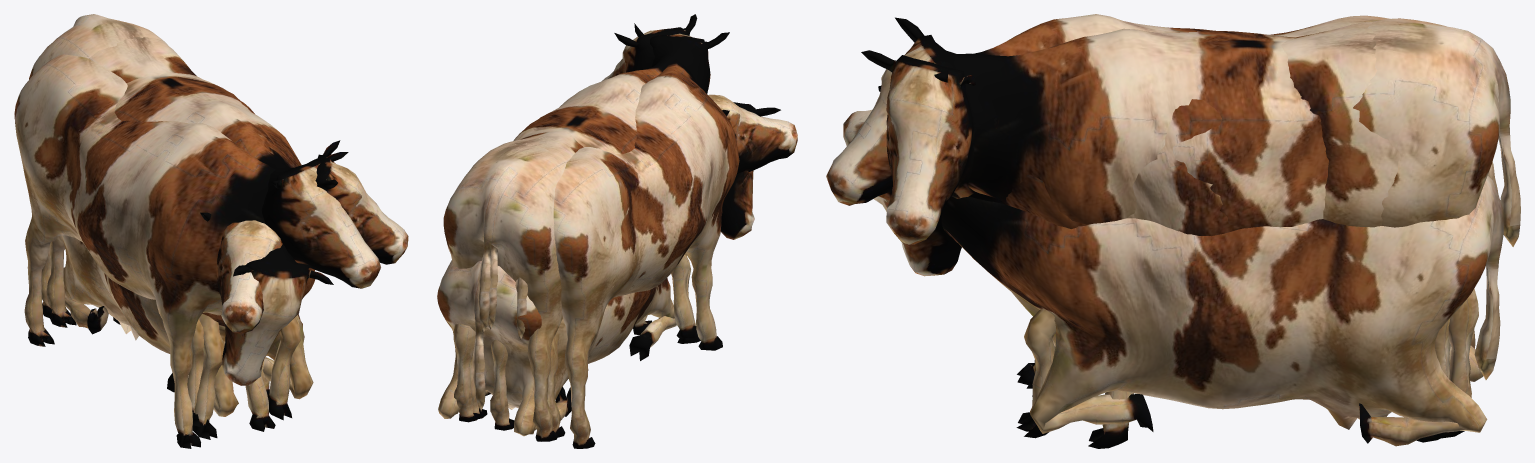
Rendered from cow_poses.glb.
3 renders of one model, left to right at view 1: azimuth 30°, elevation 25°; view 2: azimuth 150°, elevation 25°; view 3: azimuth 270°, elevation 25°, orthographic. The views are drawn at different scales.
Parts seen in each view (by area): view 1: Cow_Look, Cow_Stand, Cow_Graze, Cow_Lie; view 2: Cow_Look, Cow_Stand, Cow_Lie, Cow_Graze; view 3: Cow_Lie, Cow_Stand, Cow_Graze, Cow_Look.
Part boxes in pixels (x1,y1,x2,y2): Cow_Look: (14,54,408,448); Cow_Stand: (29,14,380,426); Cow_Graze: (46,37,333,439); Cow_Lie: (61,212,315,416); Cow_Look: (490,14,739,448); Cow_Stand: (443,23,729,441); Cow_Lie: (437,94,797,436); Cow_Graze: (470,102,780,437); Cow_Lie: (843,110,1503,446); Cow_Stand: (826,17,1520,448); Cow_Graze: (873,22,1498,442); Cow_Look: (861,14,1390,431).
Bounding box in the file's own units: 1.05 × 1.4 × 2.26.
Materials: 1 (1 with a texture image).
